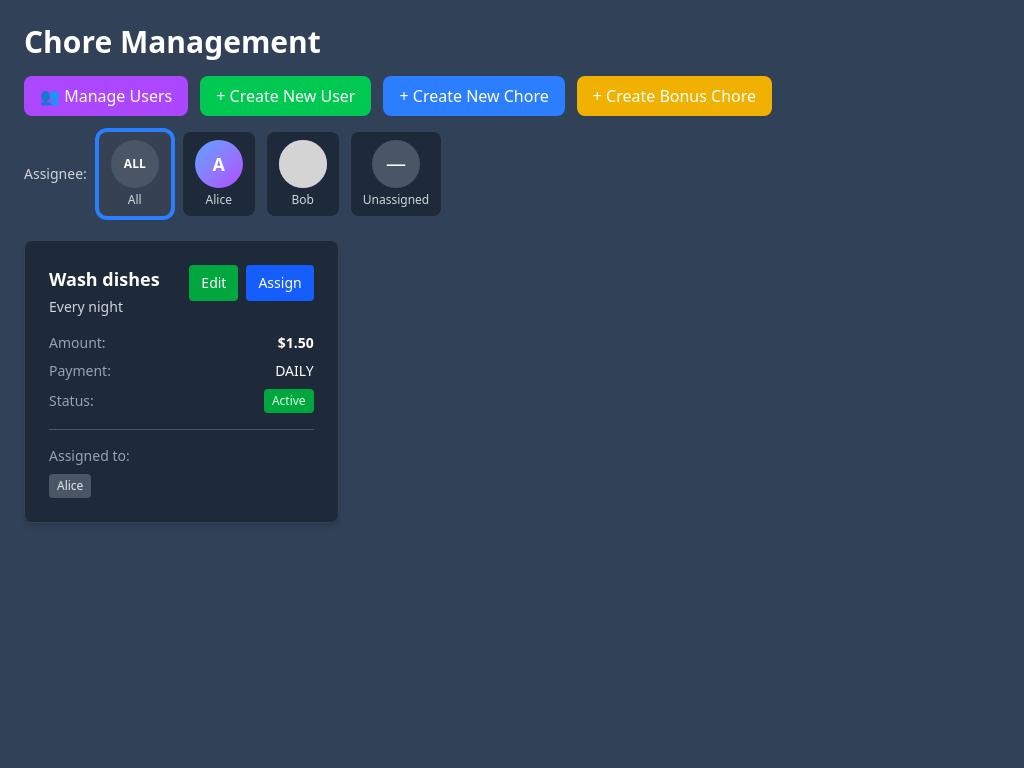
Test: AdminChoreManagement toolbar › opens the Create New User modal
The width and height of the screenshot is (1024, 768).
Expected: the heading "Chore Management" is shown, [24,21,321,62]
Click the button "+ Create New User".
click(286, 96)  # box [200,76,372,116]
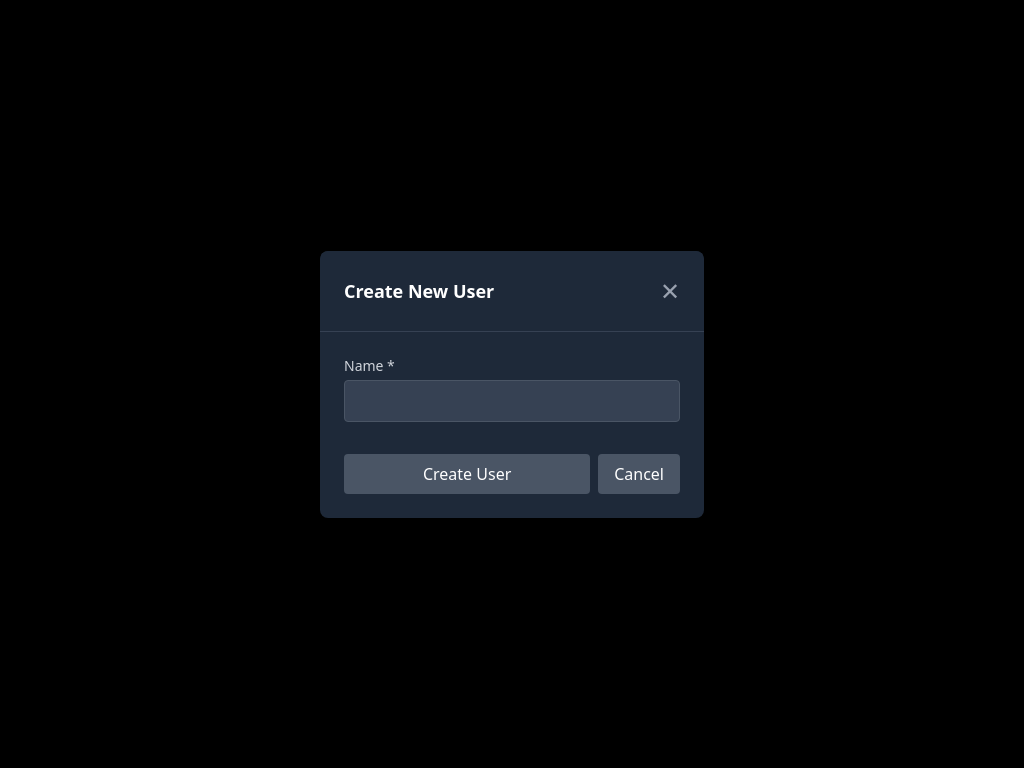
Now the heading "Create New User" is shown, box [344,276,494,304]
Now the field labelled "Name *" is shown, box [344,380,680,422]
